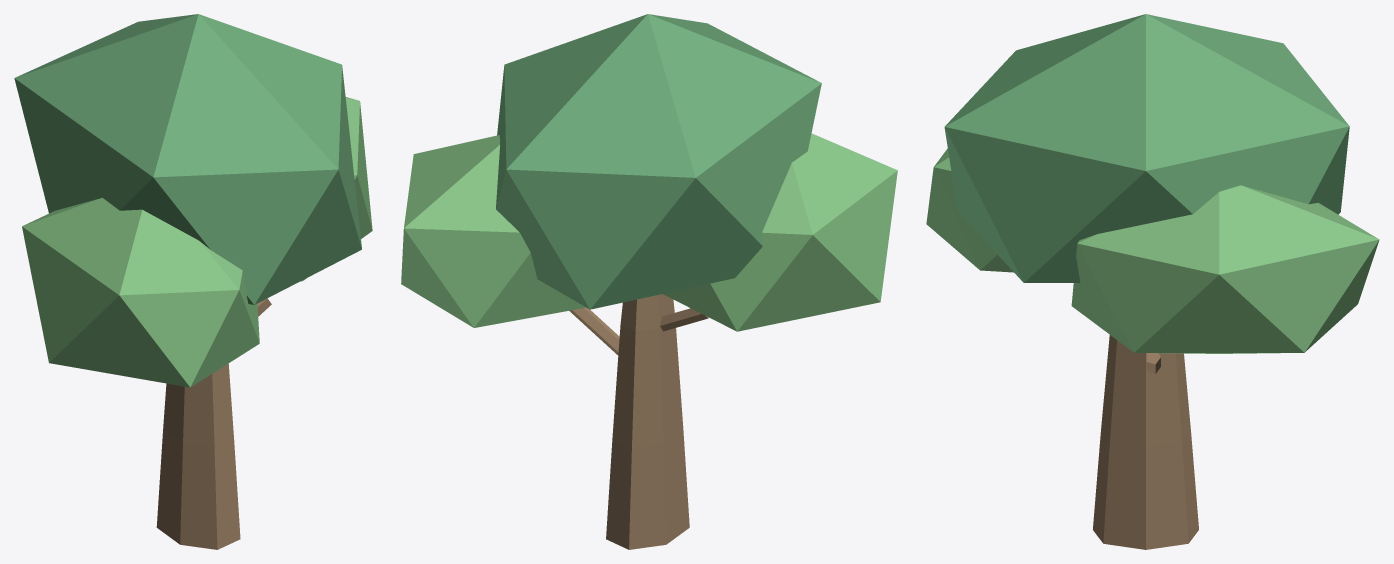
File: tree.glb
3 renders of one model, left to right at view 1: azimuth 30°, elevation 25°; view 2: azimuth 150°, elevation 25°; view 3: azimuth 270°, elevation 25°, orthographic.
Visible parts, largest first — view 1: Canopy_0, Canopy_2, Trunk, Canopy_1; view 2: Canopy_0, Canopy_2, Canopy_1, Trunk, Branch_0, Branch_1; view 3: Canopy_0, Canopy_1, Trunk, Canopy_2.
Part boxes in pixels (x1,y1,x2,y2): Canopy_0: (14, 14, 361, 304); Canopy_2: (22, 198, 259, 387); Trunk: (156, 363, 240, 549); Canopy_1: (301, 97, 372, 281); Canopy_0: (496, 14, 821, 309); Canopy_2: (663, 133, 897, 331); Canopy_1: (401, 135, 585, 327); Trunk: (606, 294, 689, 549); Branch_0: (569, 307, 619, 355); Branch_1: (660, 308, 708, 331); Canopy_0: (944, 14, 1349, 282); Canopy_1: (1071, 185, 1379, 353); Trunk: (1093, 335, 1198, 549); Canopy_2: (926, 148, 1013, 272).
Bounding box in the file's own units: 3.4 × 4.3 × 3.4.
